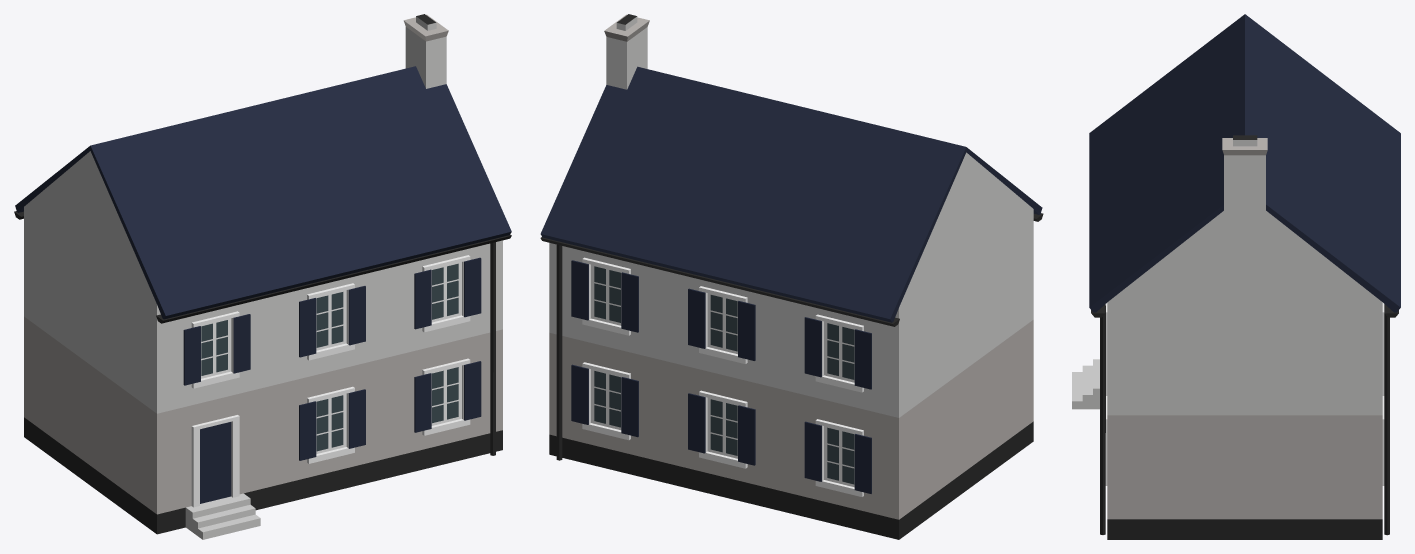
Rendered from buildings_building-house-big.fbx.
The picture shows the model from 3 angles, left to right: view 1: azimuth 30°, elevation 25°; view 2: azimuth 150°, elevation 25°; view 3: azimuth 270°, elevation 25°; orthographic projection. The views are drawn at different scales.
Parts seen in each view (by area): view 1: buildings_building_house_big; view 2: buildings_building_house_big; view 3: buildings_building_house_big.
Part boxes in pixels (bbox=[...]): buildings_building_house_big: bbox=[14, 14, 511, 539]; buildings_building_house_big: bbox=[540, 14, 1043, 539]; buildings_building_house_big: bbox=[1072, 14, 1400, 539].
Size of the model in its own units: 190 by 200 by 150.
